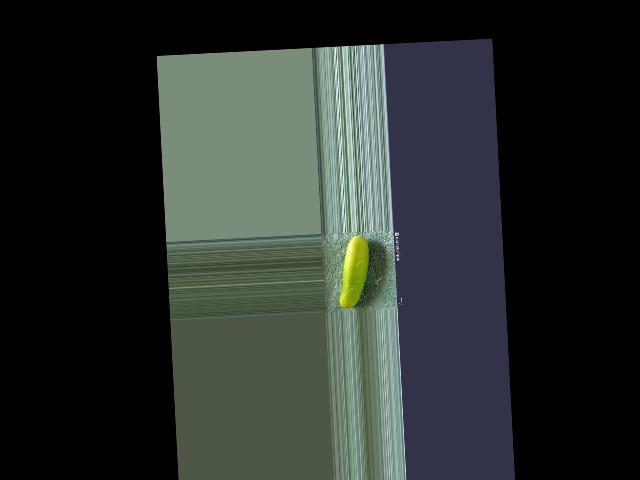cucumber: (336, 235, 372, 309)
